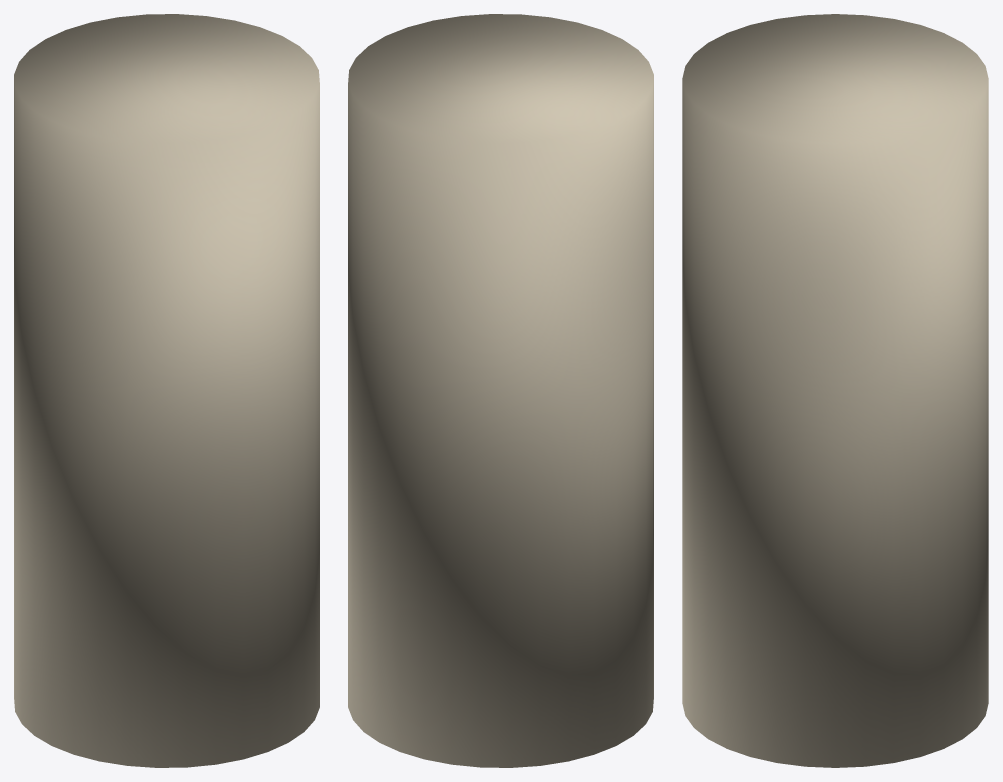
The model's file is candle_big.glb.
The picture shows the model from 3 angles, left to right: view 1: azimuth 30°, elevation 25°; view 2: azimuth 150°, elevation 25°; view 3: azimuth 270°, elevation 25°; orthographic projection.
Parts seen in each view (by area): view 1: wax; view 2: wax; view 3: wax.
Boxes of the visible parts, <box> form: wax: <box>14,14,319,767</box>; wax: <box>348,14,653,767</box>; wax: <box>682,14,988,767</box>.
Bounding box in the file's own units: 0.4 × 0.9 × 0.4.
Materials: 1 (1 with a texture image).
